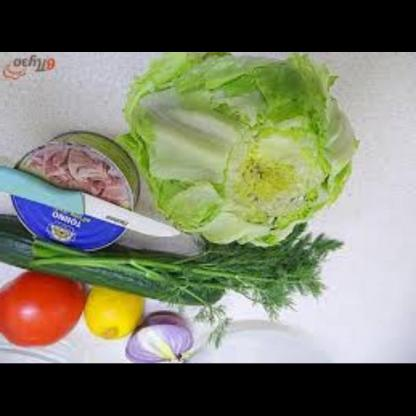cucumber: (1, 212, 221, 310)
onion: (122, 313, 194, 364)
salad: (115, 53, 368, 256)
tomato: (1, 274, 87, 356), (83, 286, 148, 344)
